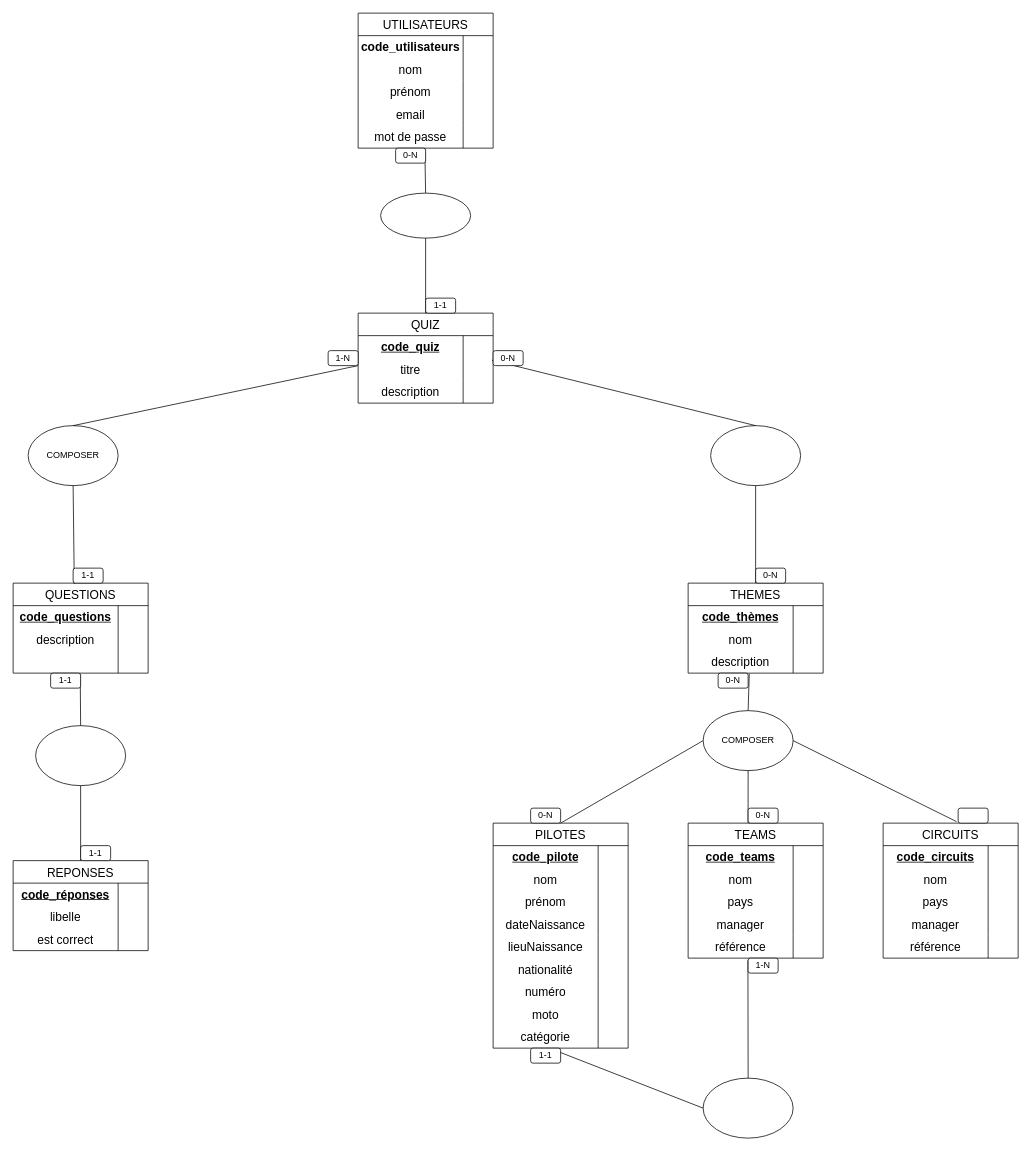
The diagram is 1031 pixels wide and 1151 high, and some of its shapes have lost their labels. Each missing label, with the centre of its shape:
APPARTENIR: the point at 747,1107
AVOIR: the point at 80,755
CATEGORISER: the point at 755,455
CREER: the point at 425,215
